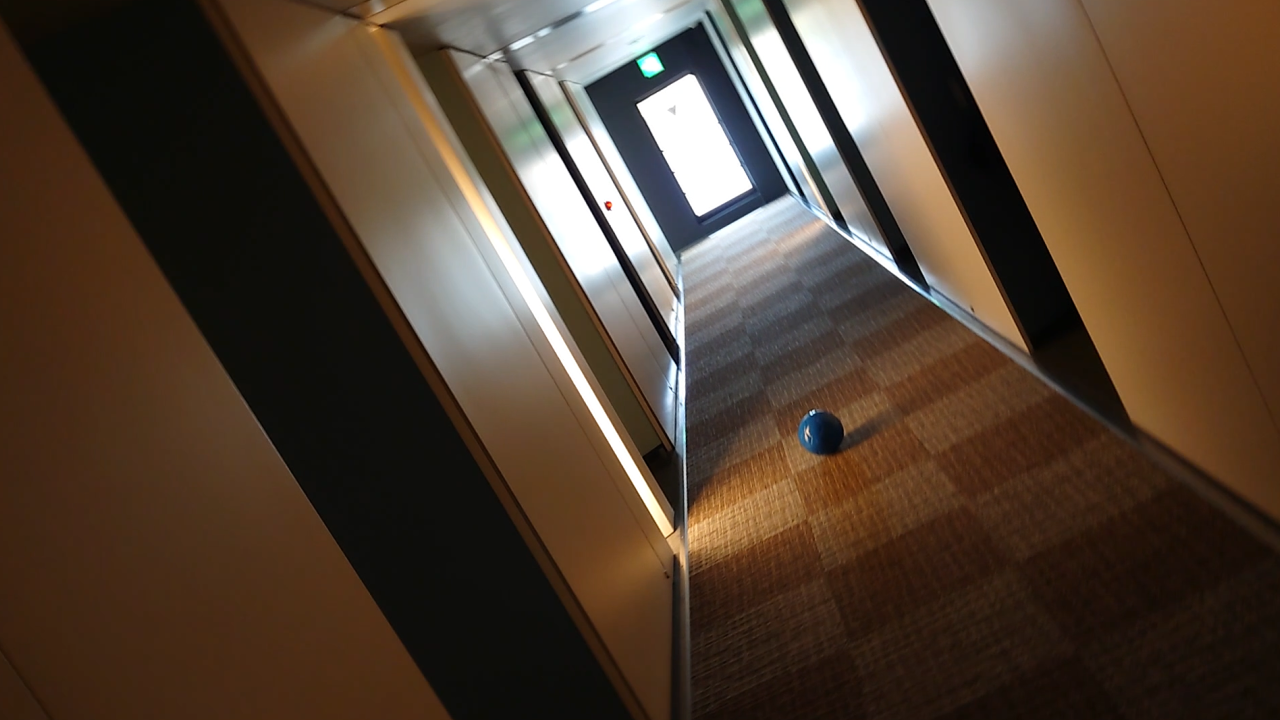blue: (795, 404, 846, 459)
